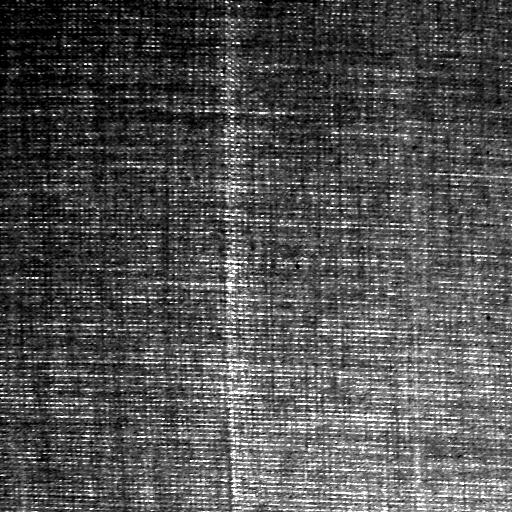fabric_missing_pick: (209, 7, 252, 499)
